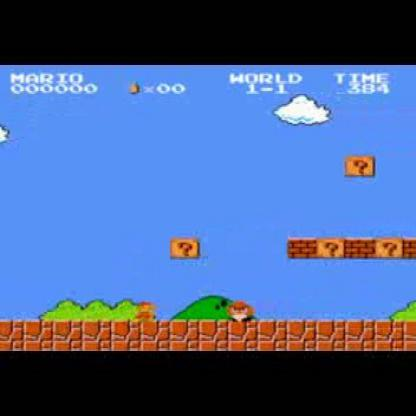Goomba: (224, 297, 254, 323)
